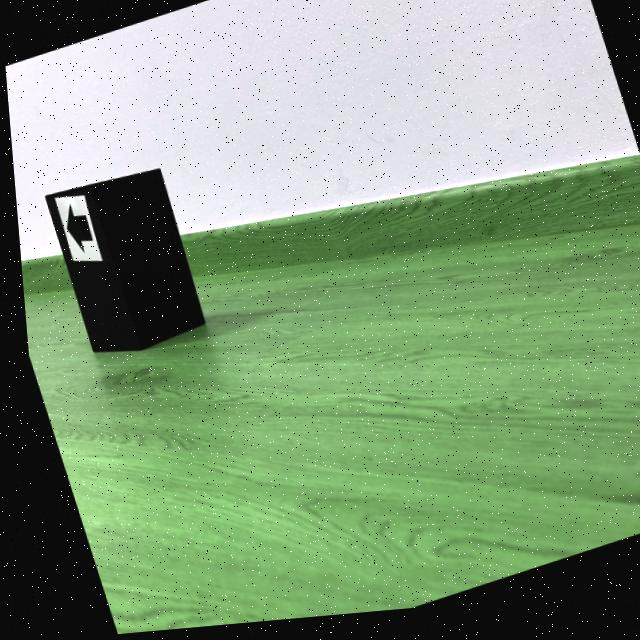LEFT: (62, 205, 89, 252)
